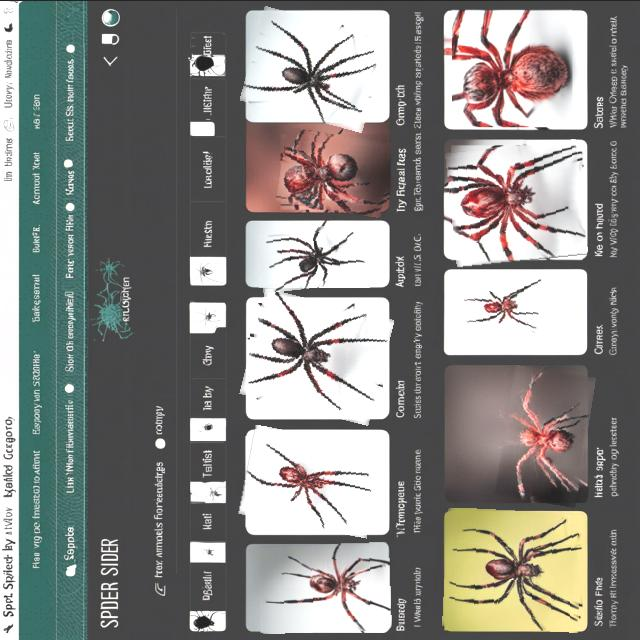spider: (244, 295, 388, 418), (443, 508, 582, 630), (448, 141, 586, 263), (245, 11, 382, 124), (453, 6, 573, 126), (242, 429, 380, 532), (500, 366, 592, 504), (260, 542, 392, 632), (279, 130, 390, 212), (258, 222, 372, 290), (460, 278, 555, 338)
